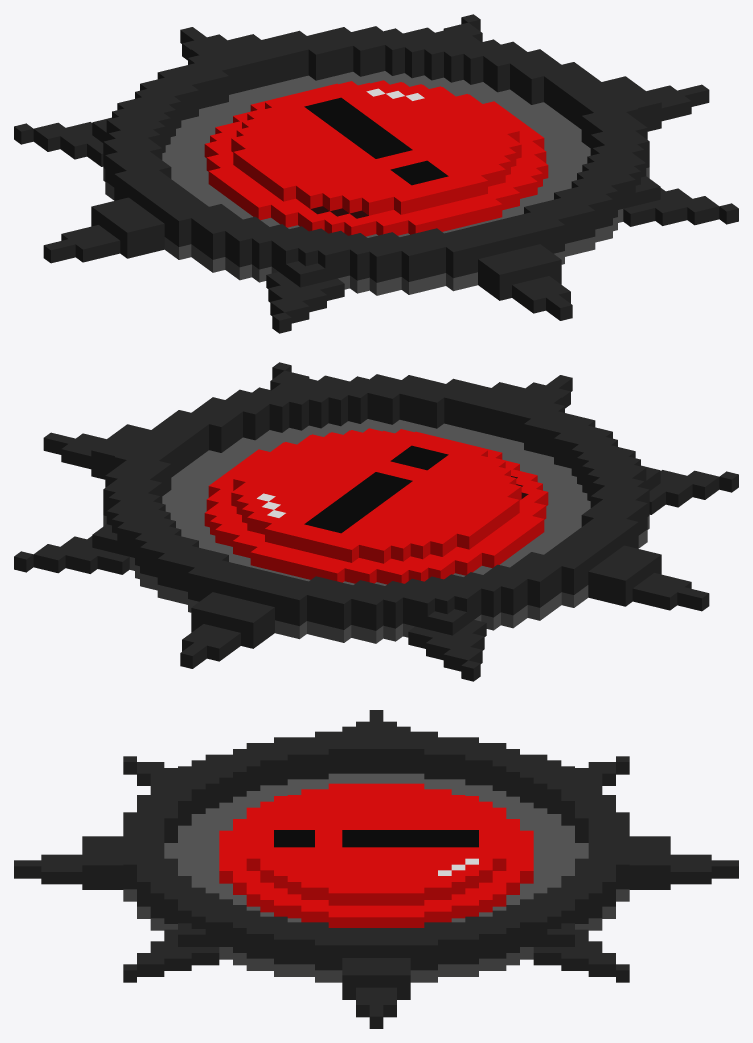
The model's file is jiroi.obj.
3 renders of one model, top to bottom at view 1: azimuth 30°, elevation 25°; view 2: azimuth 150°, elevation 25°; view 3: azimuth 270°, elevation 25°, orthographic. The views are drawn at different scales.
Parts seen in each view (by area): view 1: jiroi; view 2: jiroi; view 3: jiroi.
Part boxes in pixels (<box>): jiroi: <box>14,14,738,333</box>; jiroi: <box>14,362,738,681</box>; jiroi: <box>14,710,738,1028</box>.
Size of the model in its own units: 53 by 3 by 53.
1 material, 1 textured.
